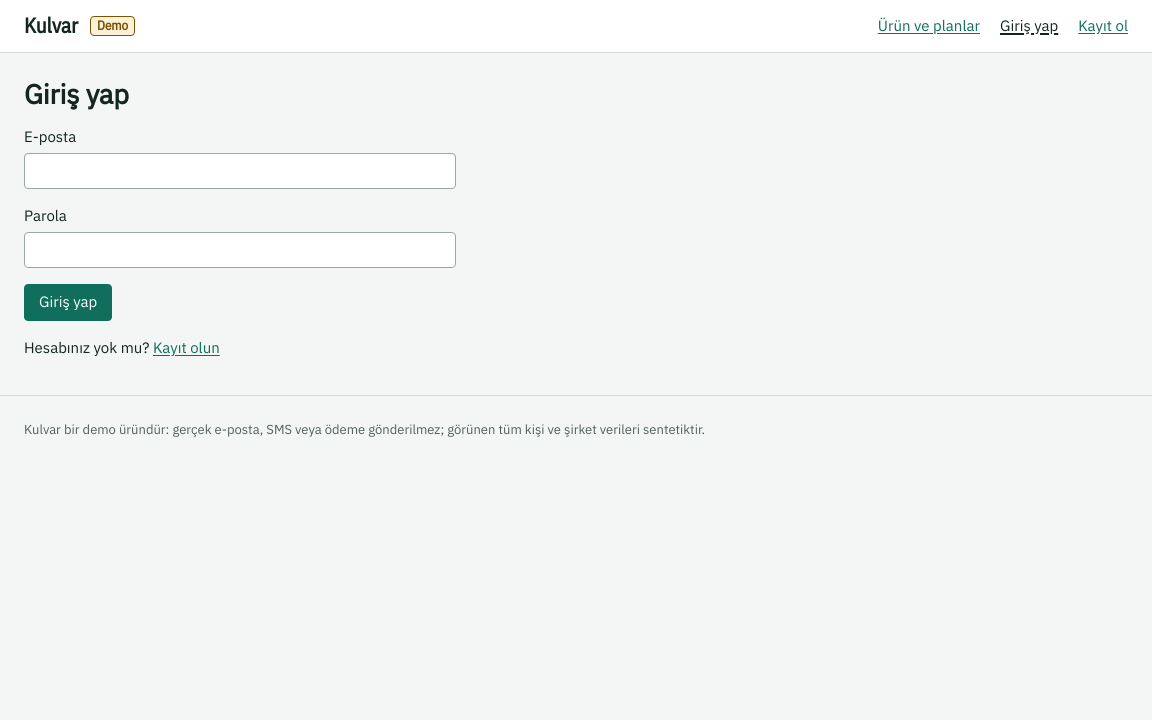
Test: formlar › giriş formu: görünür etiketler, hatalı alanlar aria-invalid + aria-describedby, özet role="alert", odak ilk hatalı alanda
The width and height of the screenshot is (1152, 720).
What coordinates should you click on to do the following:
click the button "Giriş yap"
I would click on:
 (68, 303)
Its box is [24, 284, 112, 321].
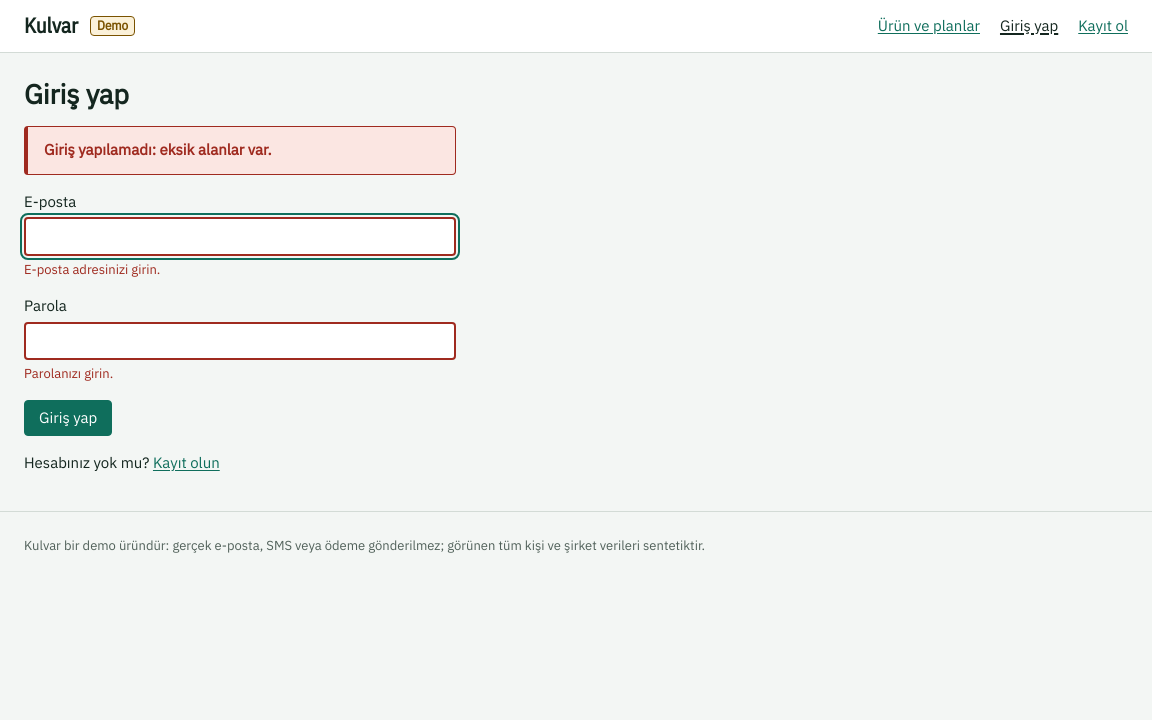
Check: the message reads "Giriş yapılamadı: eksik alanlar var.", box [44, 140, 272, 159]
